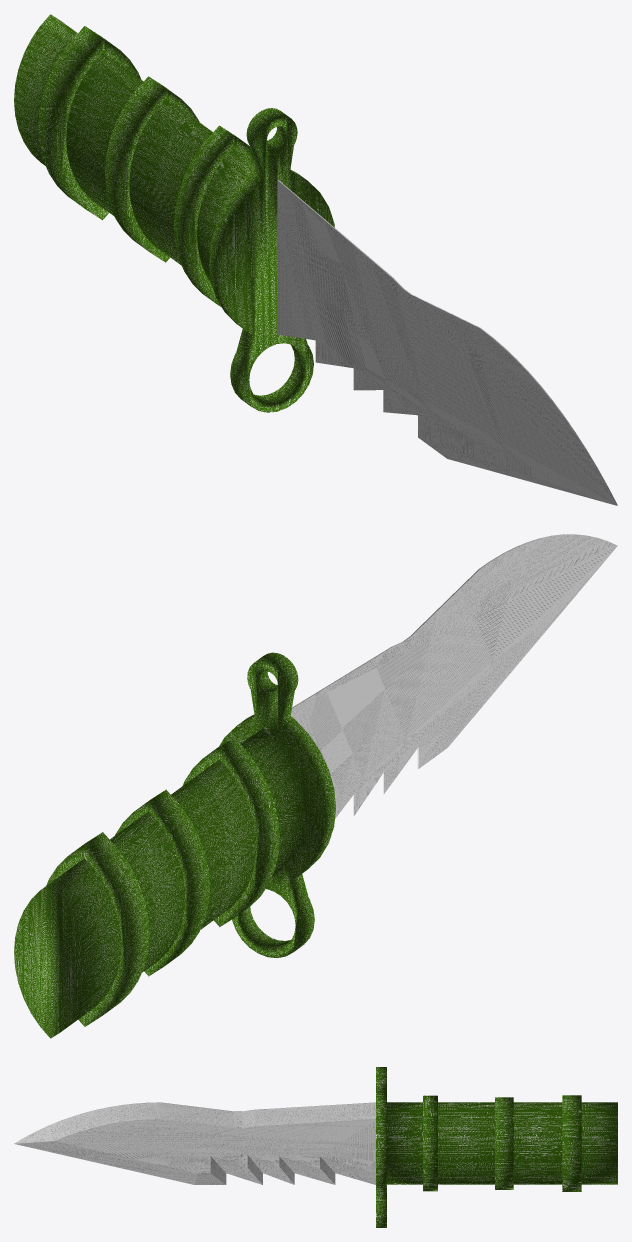
File: model_scale.obj
The picture shows the model from 3 angles, top to bottom: view 1: azimuth 30°, elevation 25°; view 2: azimuth 150°, elevation 25°; view 3: azimuth 270°, elevation 25°; orthographic projection. The views are drawn at different scales.
Parts seen in each view (by area): view 1: mesh1_mesh1-geometry; view 2: mesh1_mesh1-geometry; view 3: mesh1_mesh1-geometry.
Part boxes in pixels (x1,y1,x2,y2): mesh1_mesh1-geometry: [14, 14, 617, 505]; mesh1_mesh1-geometry: [14, 534, 617, 1038]; mesh1_mesh1-geometry: [14, 1067, 617, 1227].
Bounding box in the file's own units: 0.0258 × 0.0622 × 0.2157.
